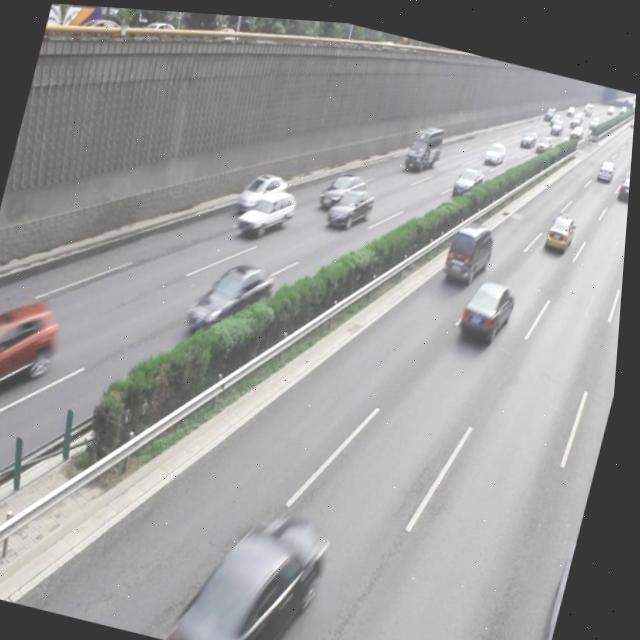car: (183, 491, 340, 640), (185, 248, 282, 343), (0, 288, 69, 413), (541, 524, 585, 640), (458, 267, 521, 339), (237, 177, 301, 238), (236, 162, 290, 216), (326, 176, 379, 228), (319, 162, 369, 209)
truck: (443, 208, 501, 281)
